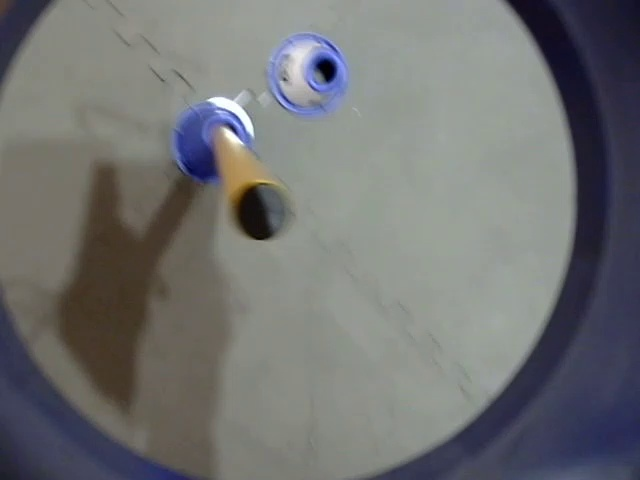tip: (229, 173, 301, 244)
